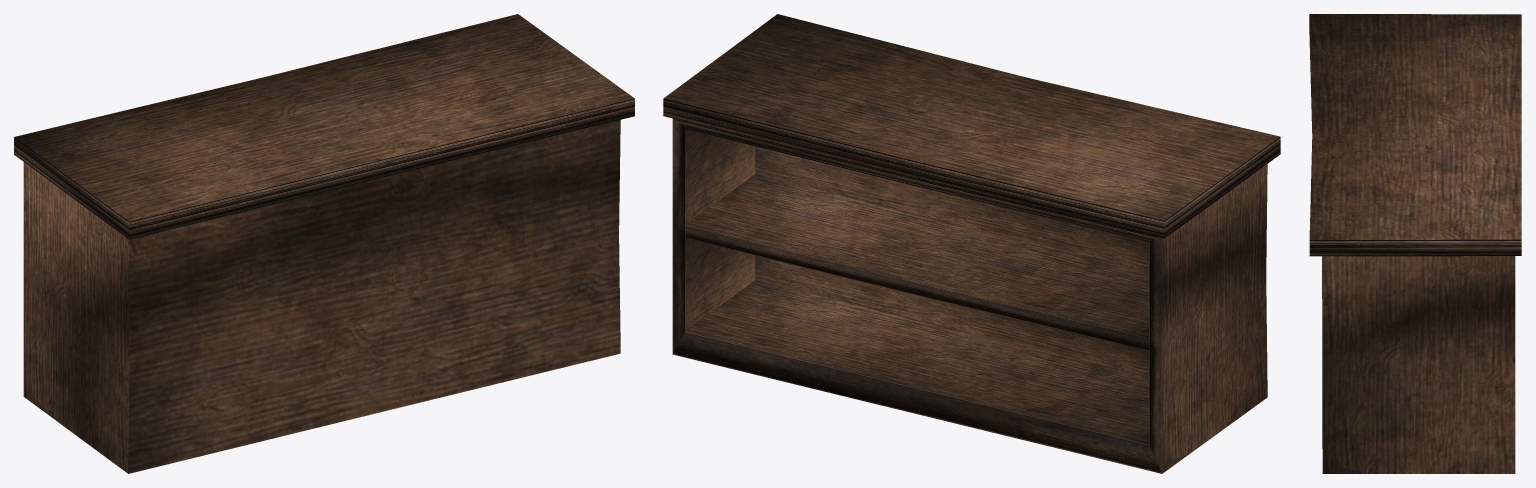
The model's file is GS_VOB_COUNTER_ORANGE_01_KOZA.glb.
3 views of the same model, side by side, from view 1: azimuth 30°, elevation 25°; view 2: azimuth 150°, elevation 25°; view 3: azimuth 270°, elevation 25° (orthographic). The views are drawn at different scales.
Visible parts, largest first — view 1: Mesh; view 2: Mesh; view 3: Mesh.
Boxes of the visible parts, x1,y1,x2,y2 form: Mesh: [14, 14, 634, 473]; Mesh: [663, 14, 1280, 473]; Mesh: [1309, 14, 1521, 473].
Bounding box in the file's own units: 2.08 × 1.02 × 0.8243.
2 materials, 2 textured.
